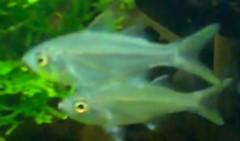Glass Perchlet: (23, 10, 222, 89), (58, 77, 234, 141)
